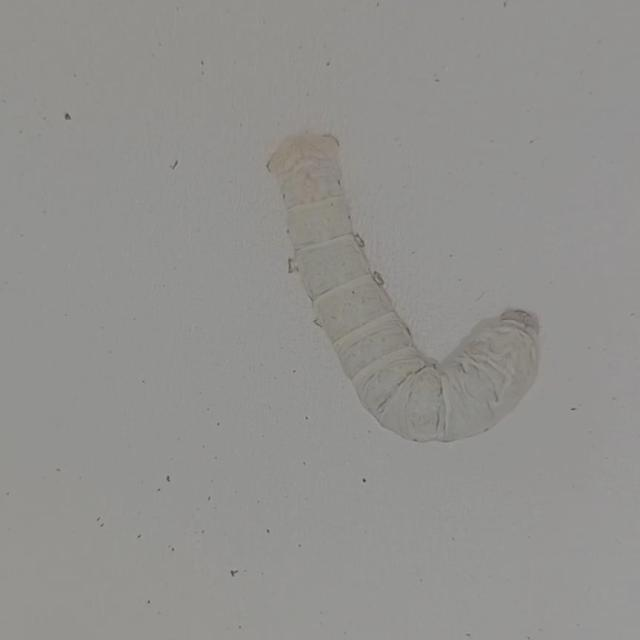Healthy: (234, 89, 562, 468)
